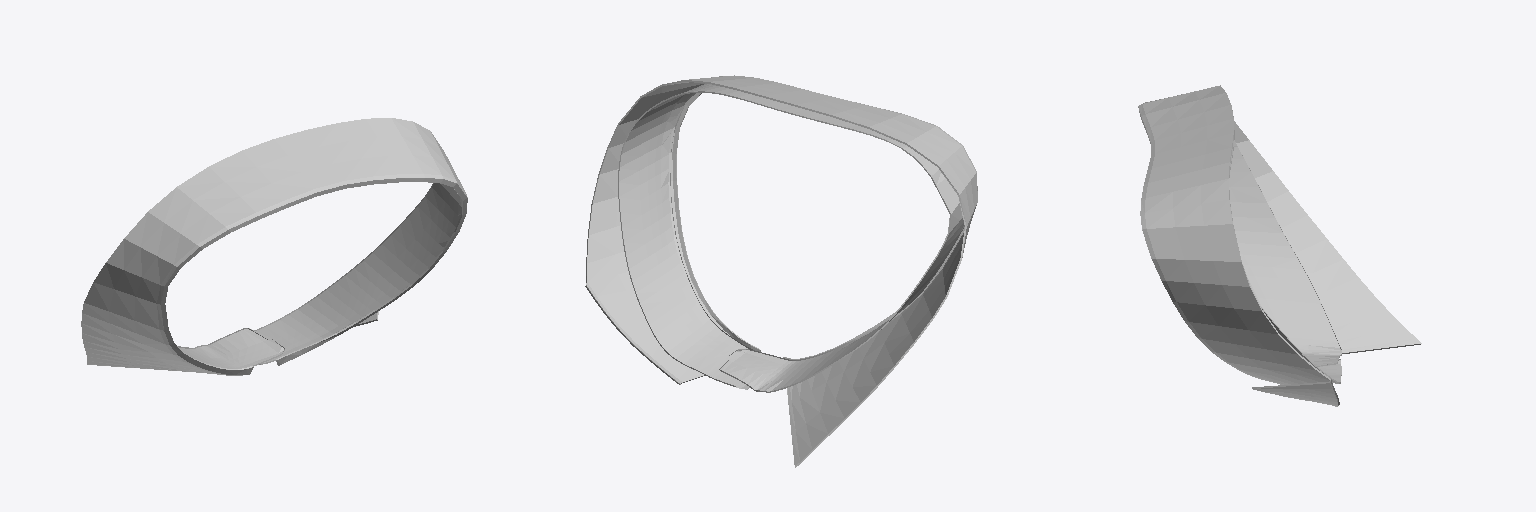
Rendered from snap_down.obj.
3 views of the same model, side by side, from view 1: azimuth 30°, elevation 25°; view 2: azimuth 150°, elevation 25°; view 3: azimuth 270°, elevation 25° (orthographic).
Visible parts, largest first — view 1: 22_snapdown, inner_collar_out; view 2: 22_snapdown, inner_collar_out; view 3: 22_snapdown, inner_collar_out, snapdown_lipatan.
Part boxes in pixels (left/top/right/bottom): 22_snapdown: left=81, top=118, right=467, bottom=375; inner_collar_out: left=178, top=183, right=461, bottom=368; 22_snapdown: left=586, top=75, right=977, bottom=467; inner_collar_out: left=618, top=84, right=964, bottom=392; 22_snapdown: left=1138, top=85, right=1421, bottom=404; inner_collar_out: left=1229, top=130, right=1341, bottom=383; snapdown_lipatan: left=1252, top=381, right=1338, bottom=406.
Bounding box in the file's own units: 18.02 × 13.16 × 12.4.